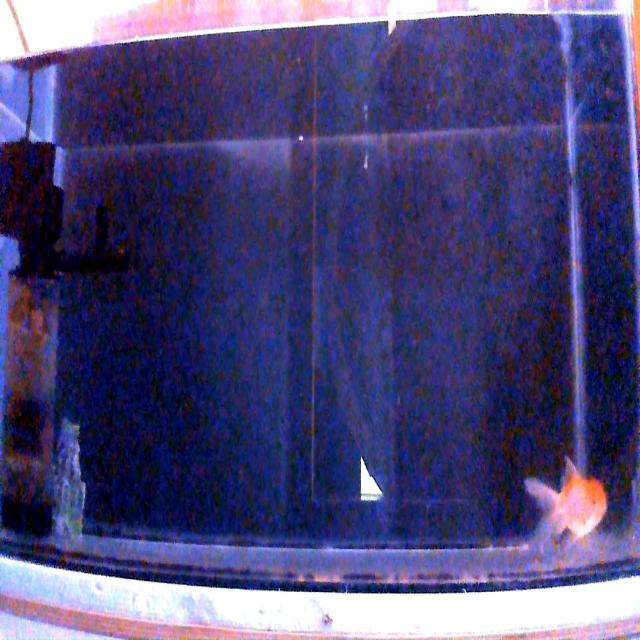fish: (526, 454, 608, 542)
